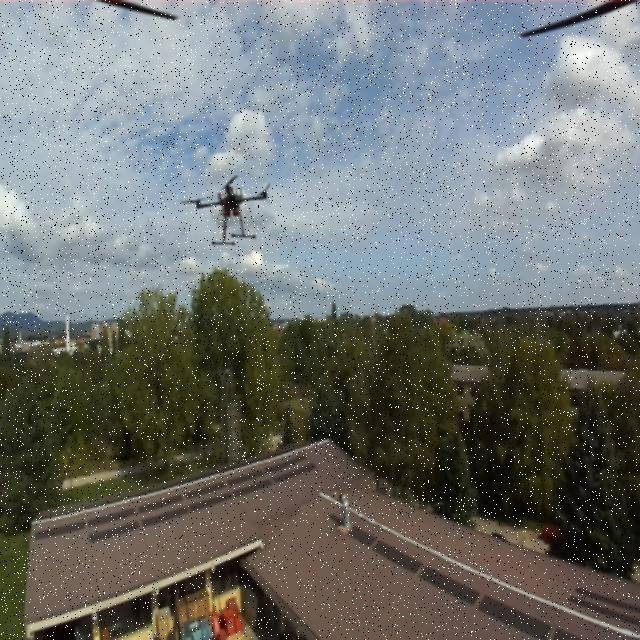UAV: (183, 166, 277, 246)
